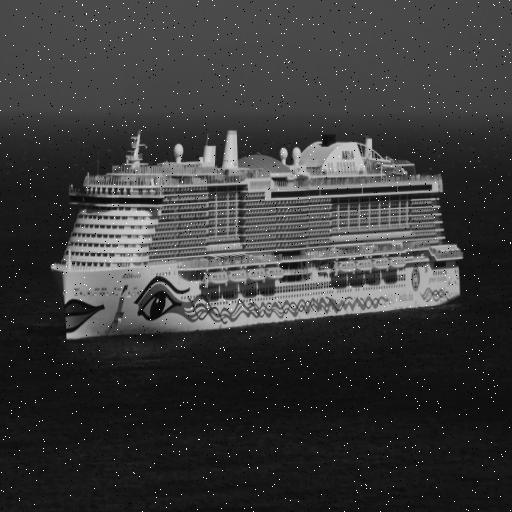cruises: (46, 118, 467, 351)
